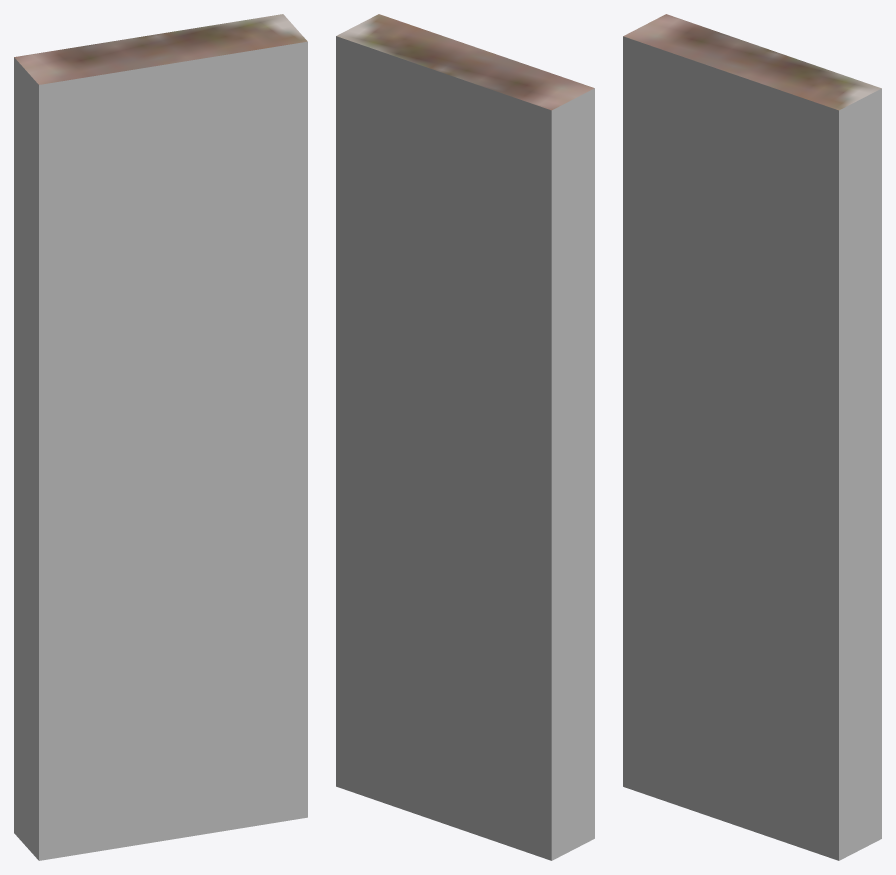
File: DEBW_0010007THXL.gltf
The picture shows the model from 3 angles, left to right: view 1: azimuth 30°, elevation 25°; view 2: azimuth 150°, elevation 25°; view 3: azimuth 330°, elevation 25°; orthographic projection. The views are drawn at different scales.
Parts seen in each view (by area): view 1: Z_UP; view 2: Z_UP; view 3: Z_UP.
Boxes of the visible parts, x1=… form: Z_UP: x1=14, y1=14, x2=307, y2=860; Z_UP: x1=336, y1=14, x2=594, y2=860; Z_UP: x1=623, y1=14, x2=881, y2=860.
Size of the model in its own units: 4.93 by 14.28 by 1.92.
Materials: 2 (1 with a texture image).
